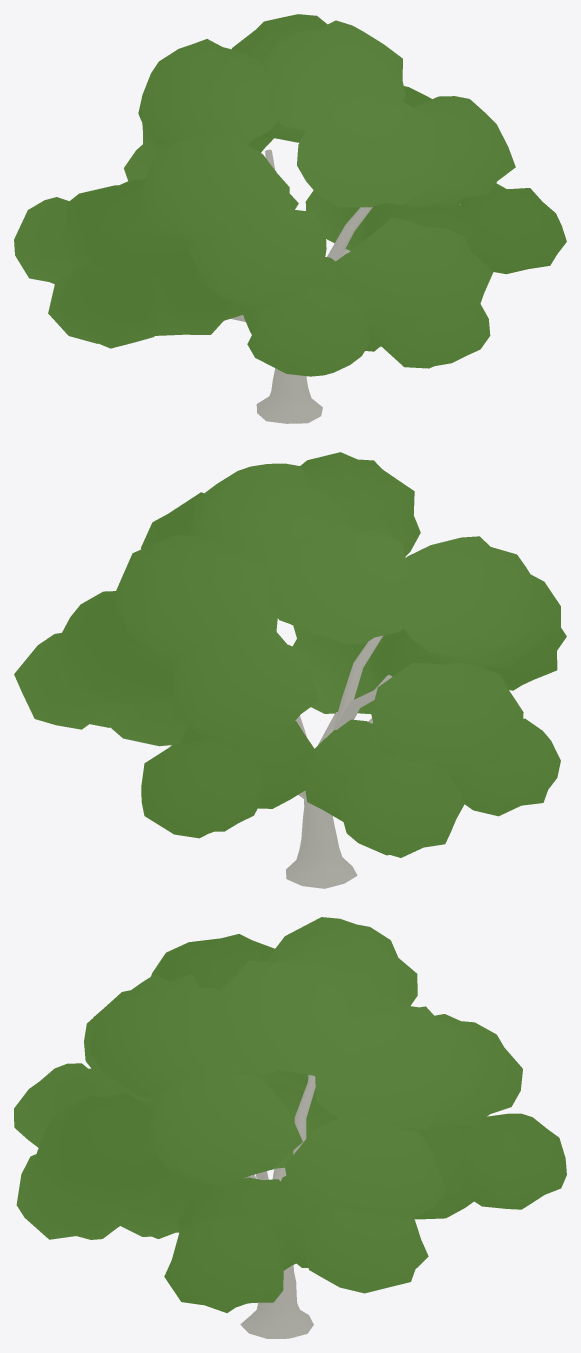
The model's file is Blender_AmericanBeech_2.glb.
3 renders of one model, top to bottom at view 1: azimuth 30°, elevation 25°; view 2: azimuth 150°, elevation 25°; view 3: azimuth 270°, elevation 25°, orthographic. The views are drawn at different scales.
Visible parts, largest first — view 1: Blender_AmericanBeech_2; view 2: Blender_AmericanBeech_2; view 3: Blender_AmericanBeech_2.
Part boxes in pixels (x1,y1,x2,y2): Blender_AmericanBeech_2: (14,14,566,423); Blender_AmericanBeech_2: (14,452,566,888); Blender_AmericanBeech_2: (14,917,566,1338).
Size of the model in its own units: 19.17 by 14.12 by 18.34.
